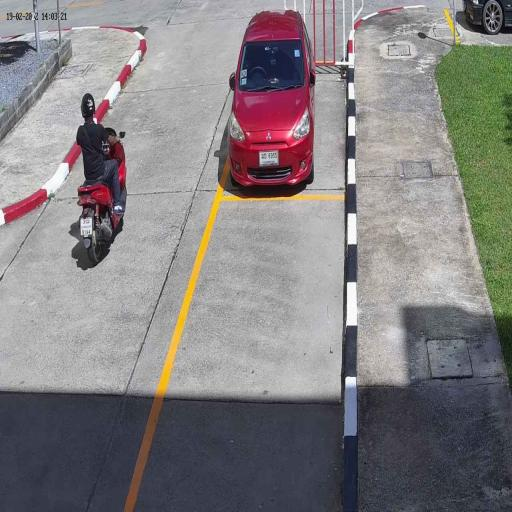car: (226, 8, 318, 193)
motorcycle: (77, 181, 121, 268)
